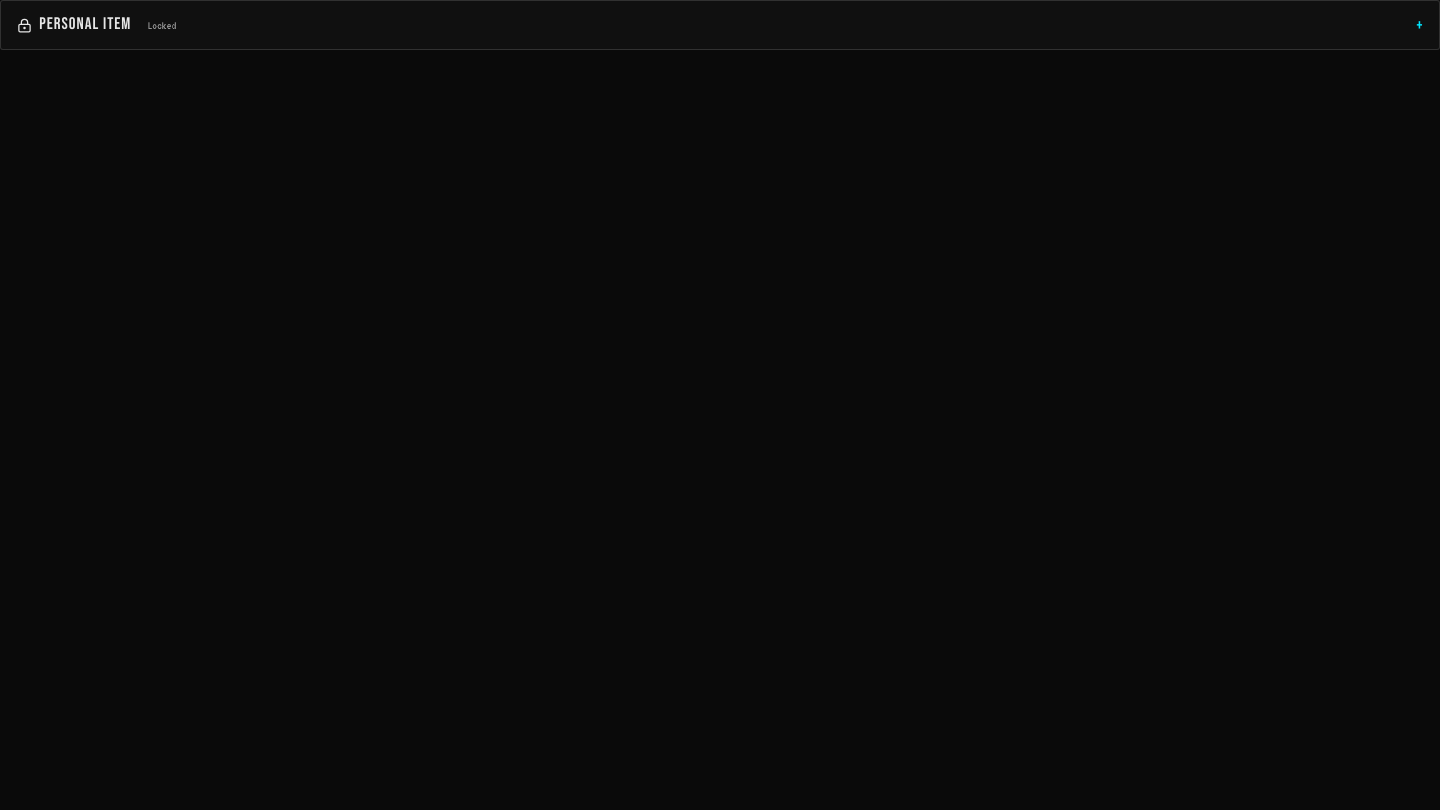
Test: personal item boundary › does not retrieve an identity before explicit confirmation and server acknowledgement
Click the heading "Personal item": {"x": 74, "y": 25} [17,12,131,38]
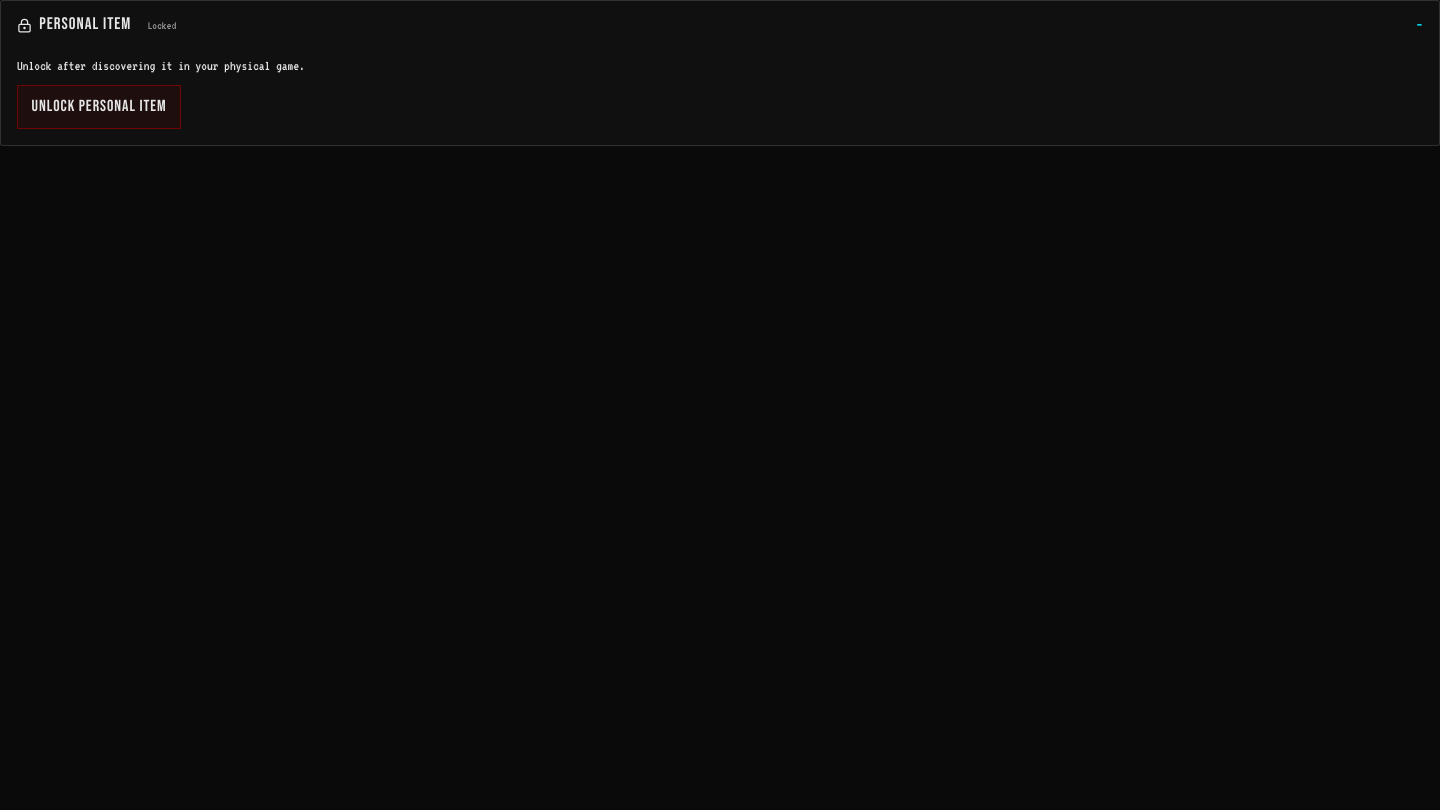
expect the button "Unlock personal item" is enabled: met
Click the button "Unlock personal item": {"x": 99, "y": 107} [17,85,181,129]
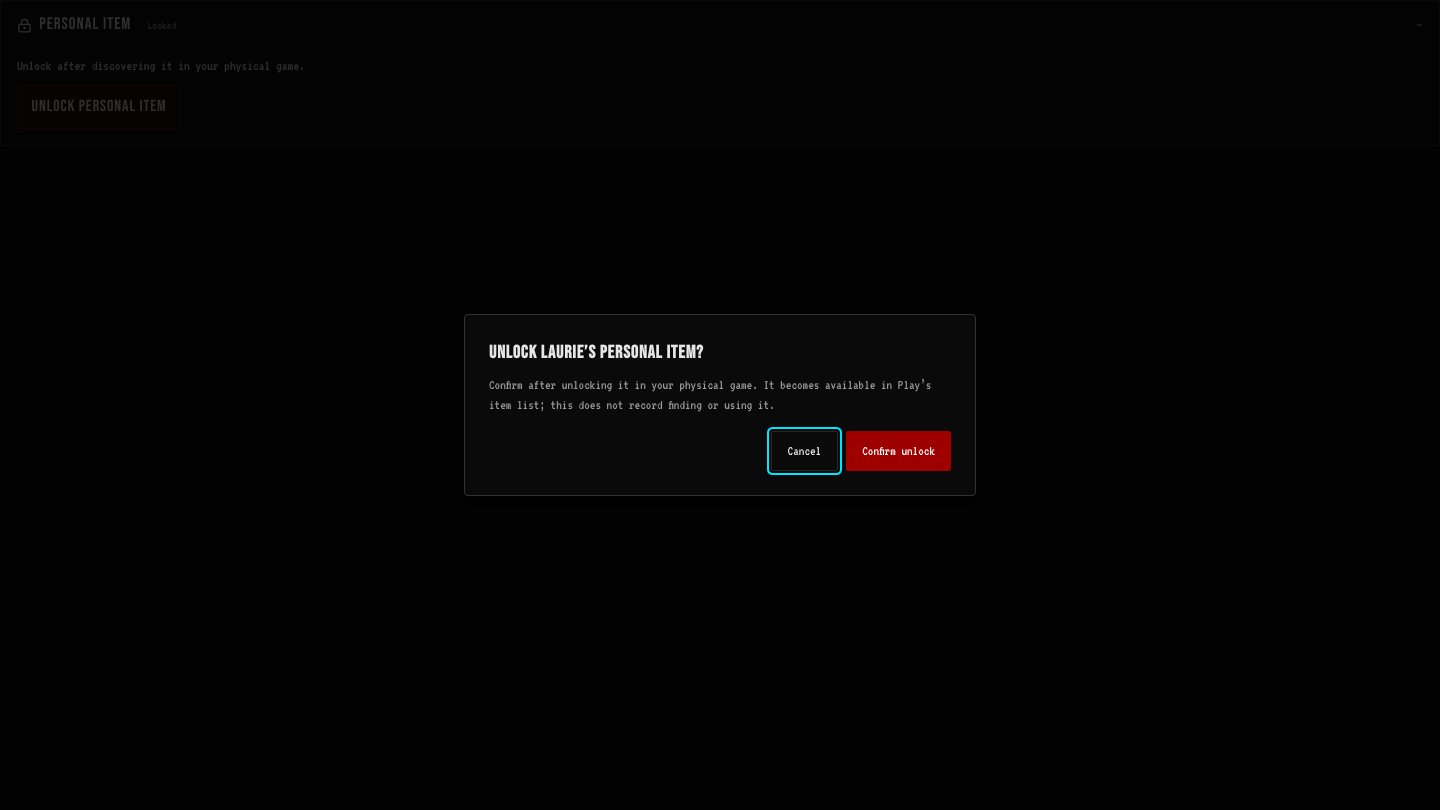
Click the button "Confirm unlock": {"x": 899, "y": 451} [846,431,951,471]
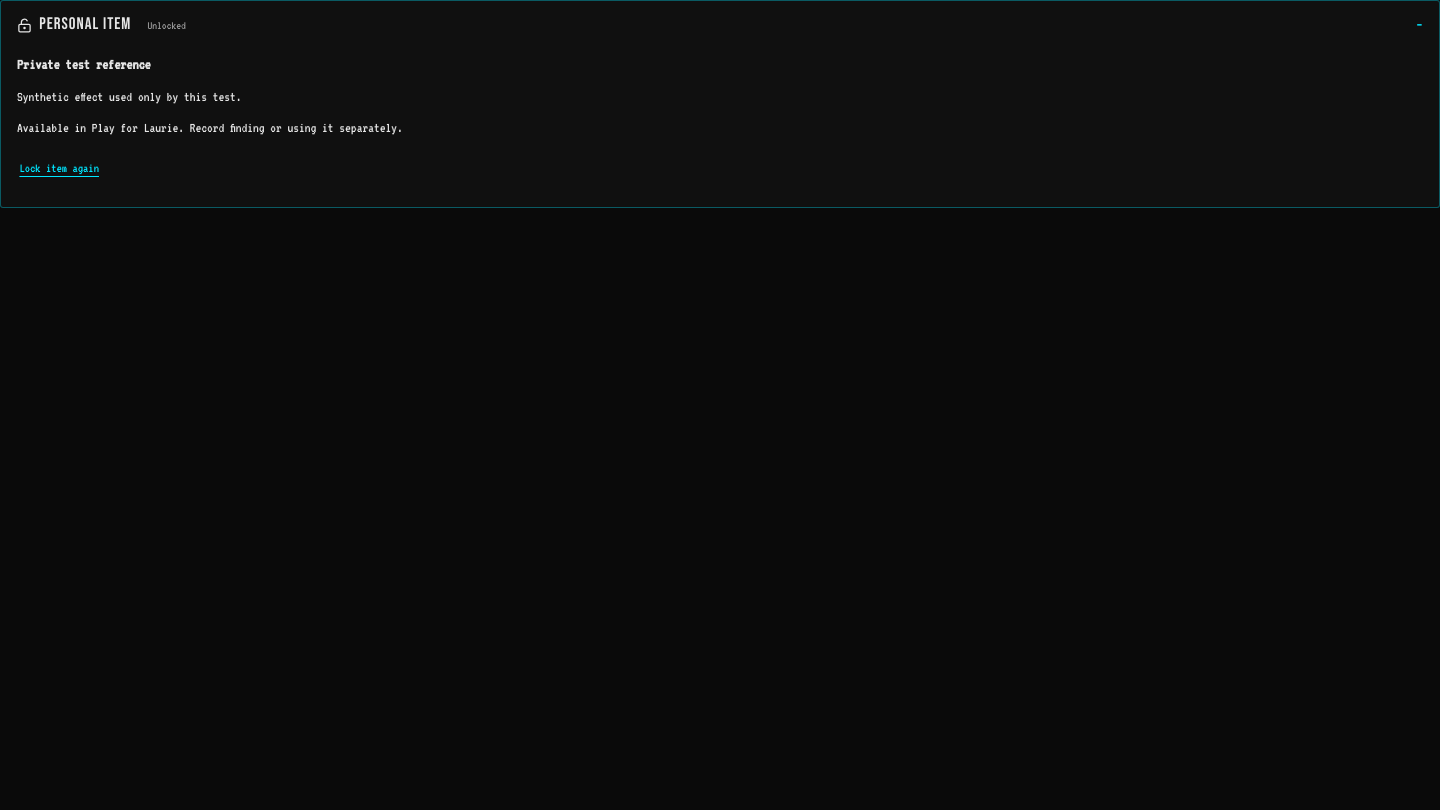
expect the heading "Private test reference" is shown: met, box [17,57,151,72]
